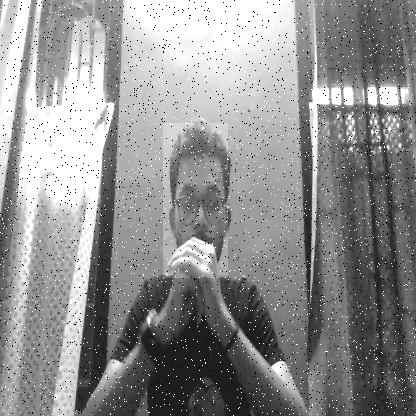Normal: (163, 123, 228, 278)
